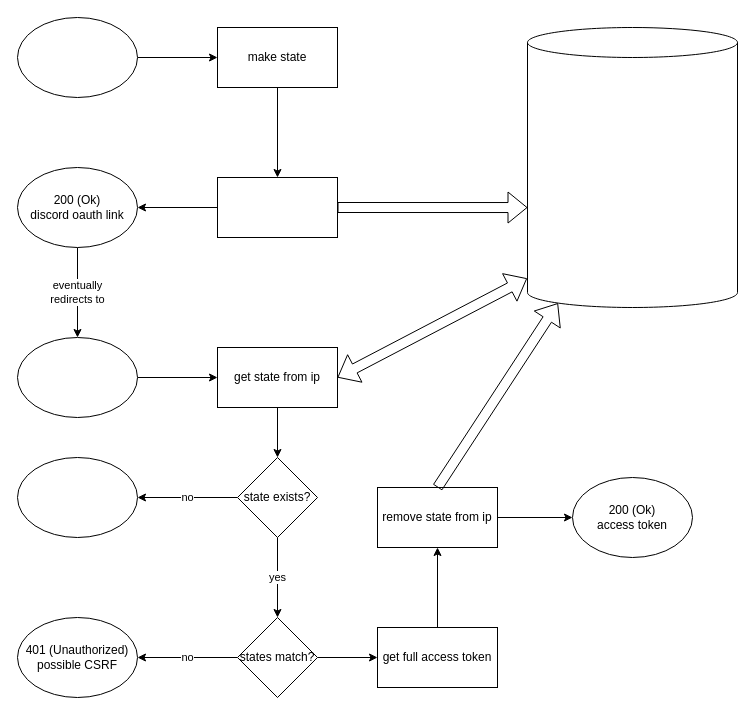
The diagram is 755 pixels wide and 715 high, and some of its shapes have lost their labels. The centre of each missing label's shape, as x and y in pixels:
"410 (Gone)" belongs at (77,497).
"acceptable state map" belongs at (632,167).
"add (ip, state) to map" belongs at (277,207).
"GET /discord/getToken" belongs at (77,377).
"POST /discord/authorize" belongs at (77,57).
